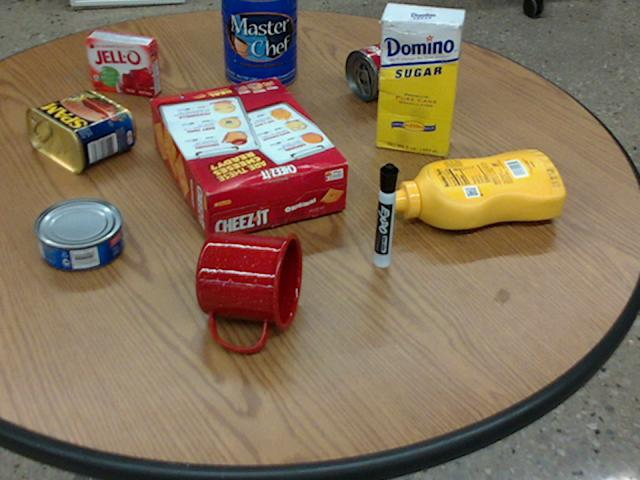cracker_box: (149, 77, 348, 240)
gelatin_box: (86, 29, 160, 94)
large_marker: (373, 163, 397, 267)
master_chef_can: (222, 0, 297, 88)
mug: (194, 232, 300, 350)
mustard_bottle: (384, 149, 563, 228)
potted_meat_can: (25, 90, 133, 171)
sugar_box: (376, 3, 464, 155)
tomato_soup_can: (344, 31, 432, 98)
tuna_fish_can: (34, 196, 122, 269)
